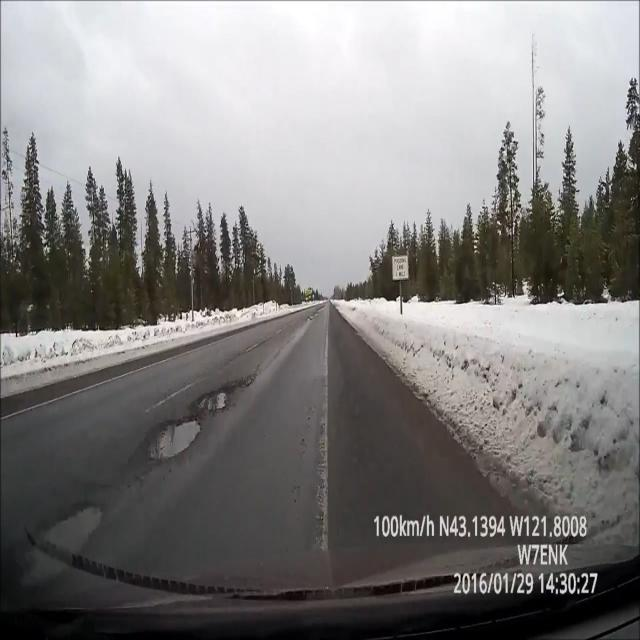Pothole: (131, 375, 246, 467)
